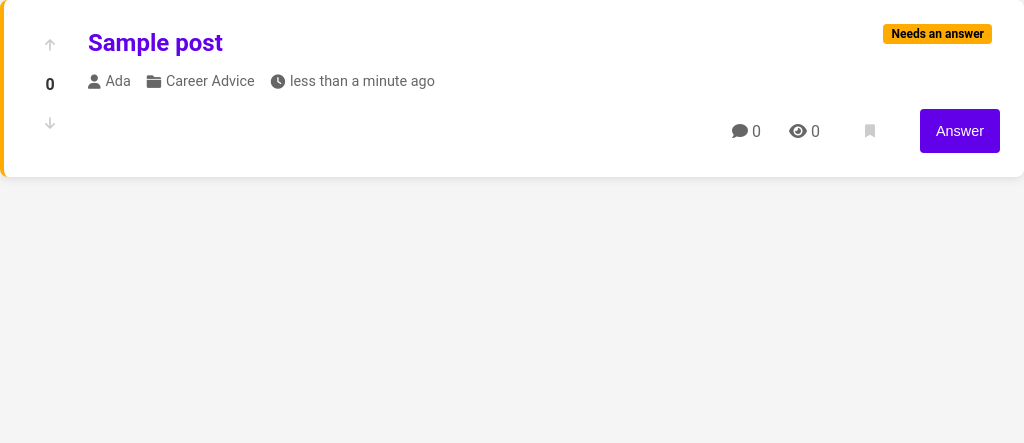
Test: PostItem quick-answer draft autosave › restores a saved draft on mount and shows a discard affordance
What coordinates should you click on to do the following:
click the button "Answer"
I would click on:
 (960, 131)
Its box is left=920, top=109, right=1000, bottom=153.
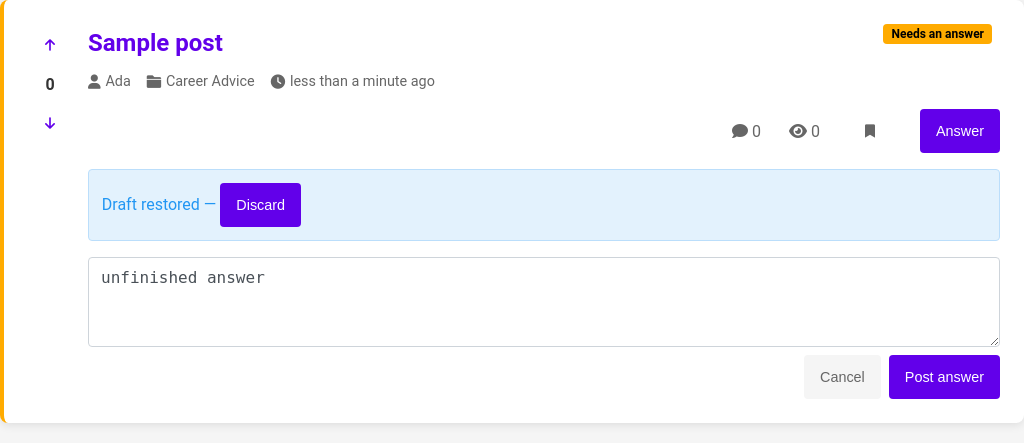
Check: the text box with placeholder "Write your answer..." holds "unfinished answer", box left=88, top=257, right=1000, bottom=347
Check: the text "Draft restored — Discard" is shown, box left=88, top=169, right=1000, bottom=241
